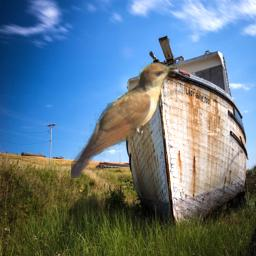Cuckoo: (71, 62, 177, 178)
